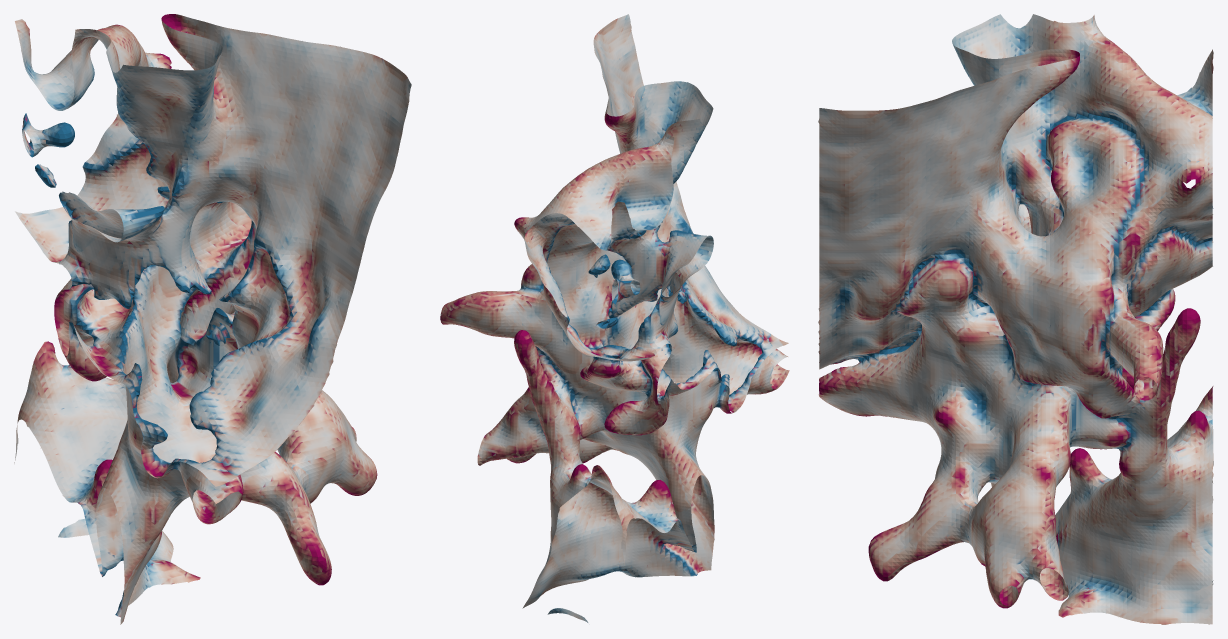
File: crop1135_curvature.glb
The picture shows the model from 3 angles, left to right: view 1: azimuth 30°, elevation 25°; view 2: azimuth 150°, elevation 25°; view 3: azimuth 270°, elevation 25°; orthographic projection. The views are drawn at different scales.
Visible parts, largest first — view 1: world; view 2: world; view 3: world.
Part boxes in pixels (x1,y1,x2,y2): world: (14,14,411,624); world: (440,14,789,622); world: (818,14,1213,624).
Size of the model in its own units: 1080 by 2279 by 1480.
